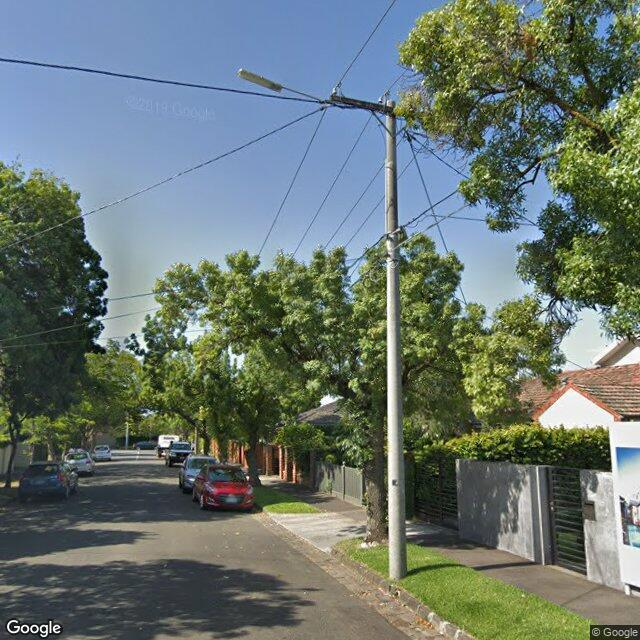concrete-pole: (387, 100, 408, 580)
crossarm: (330, 88, 418, 119)
streetlight: (238, 67, 332, 103)
